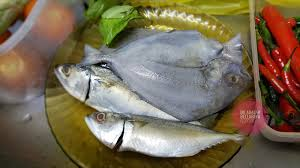Ikan Bawal: (77, 30, 251, 120)
